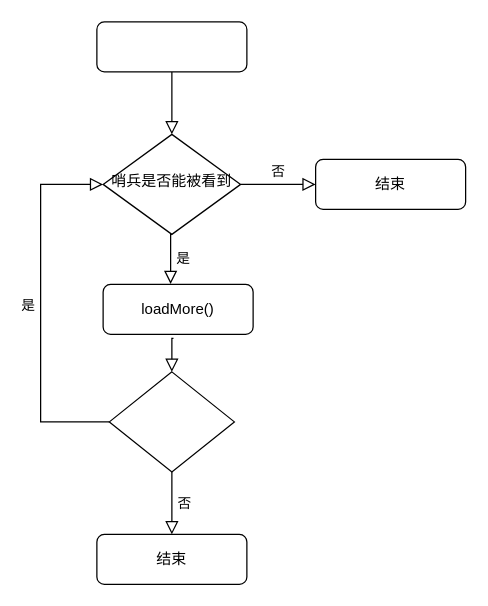
This 488x606 diagram has some shape labels left out. The shapes that lost their labels are listed below. From the top down, each one's centre as x and y in pixels, then its label:
At (x=171, y=46): "页面挂载时，loadMore()".
At (x=171, y=421): "是否还有数据？".
